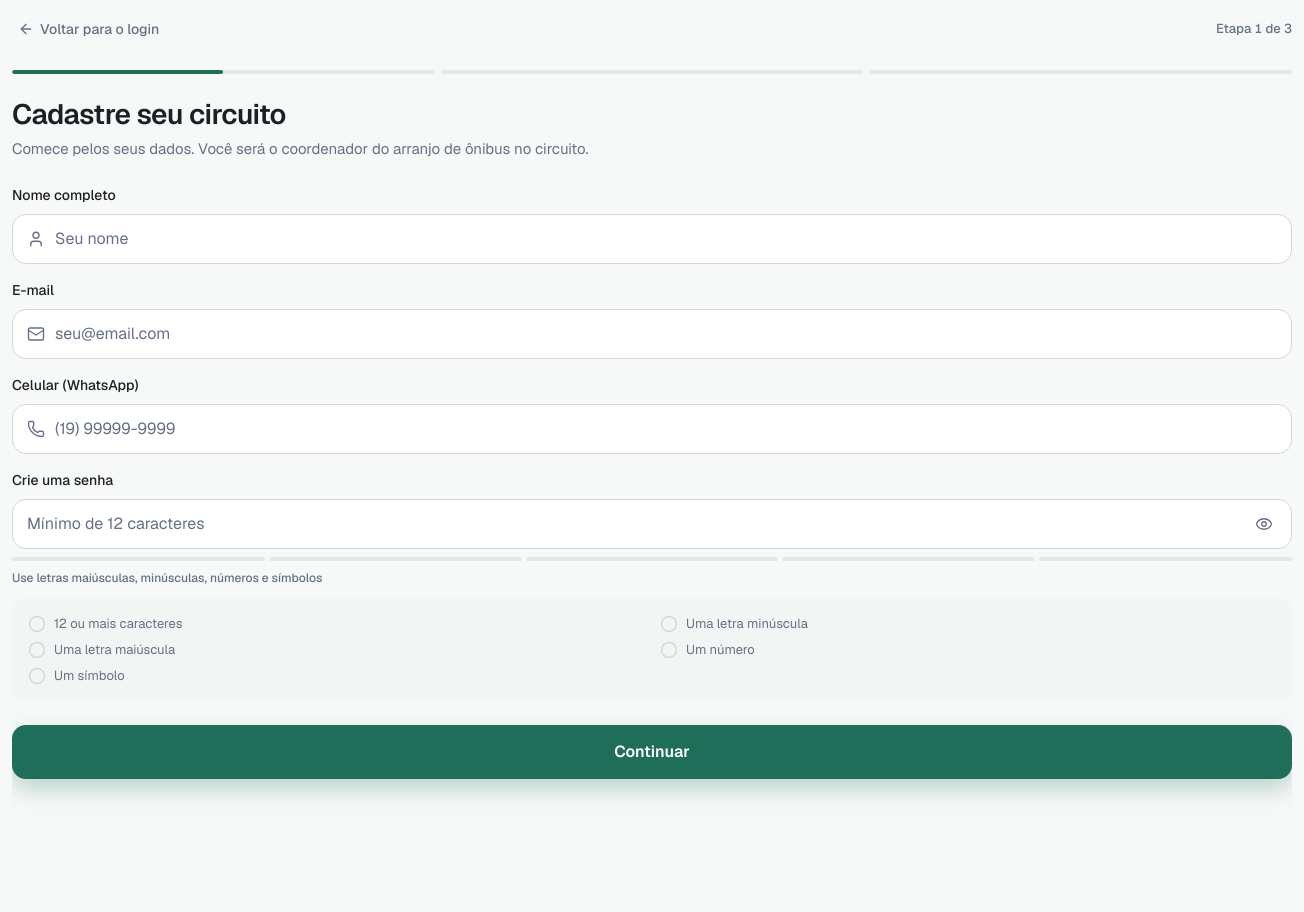
Test: SignupFlow › validação por etapa › deve validar o e-mail durante a digitação e limpar o erro ao corrigir
The width and height of the screenshot is (1304, 912).
In the field labelled "E-mail": x=669, y=334 [55,310,1283,358], type "joao@"
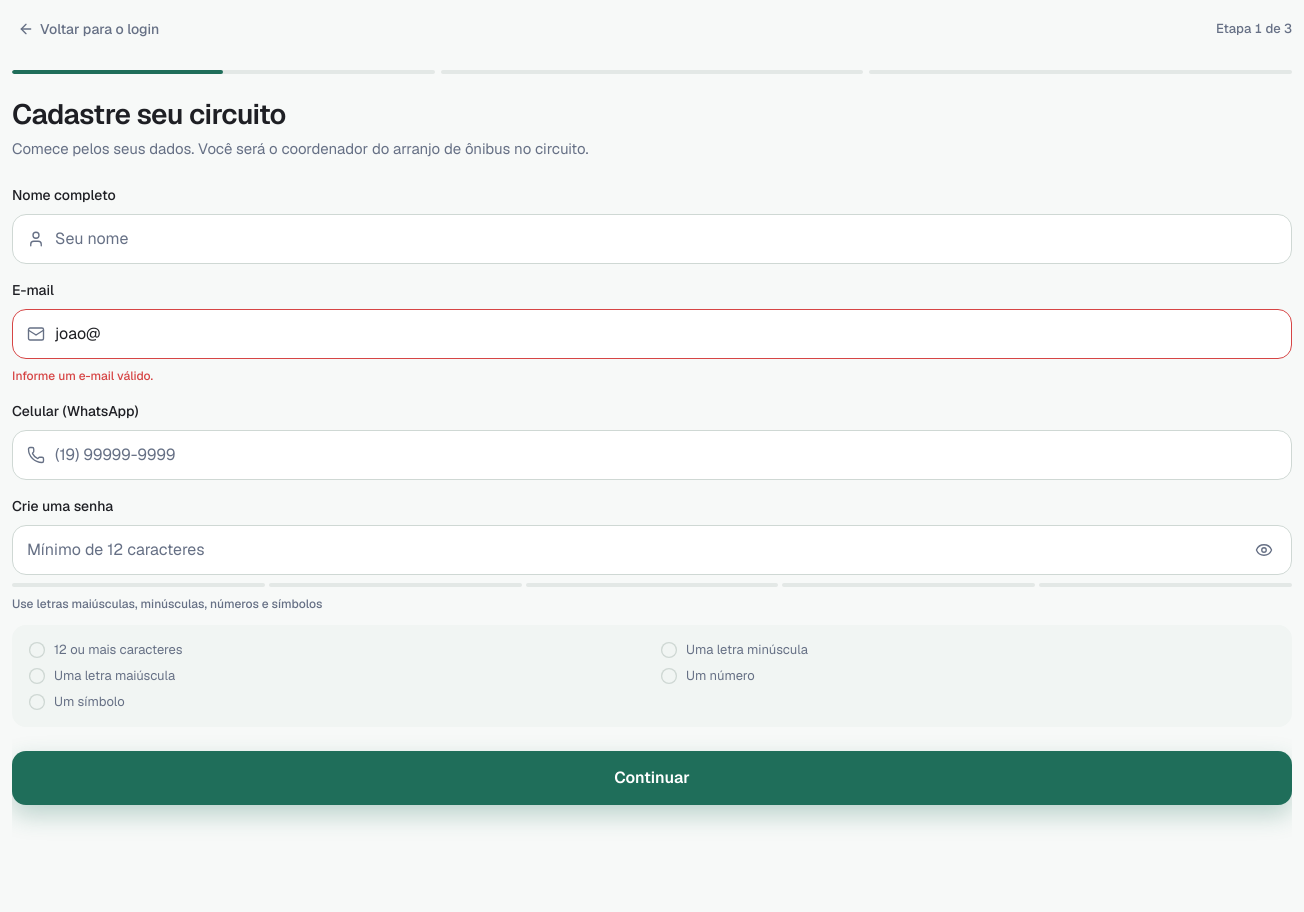
Result: the text "Informe um e-mail válido." is shown at [12,368,153,384]
Replace the text in the field labelled "E-mail" with "joao@example.com": x=669, y=334 [55,310,1283,358]
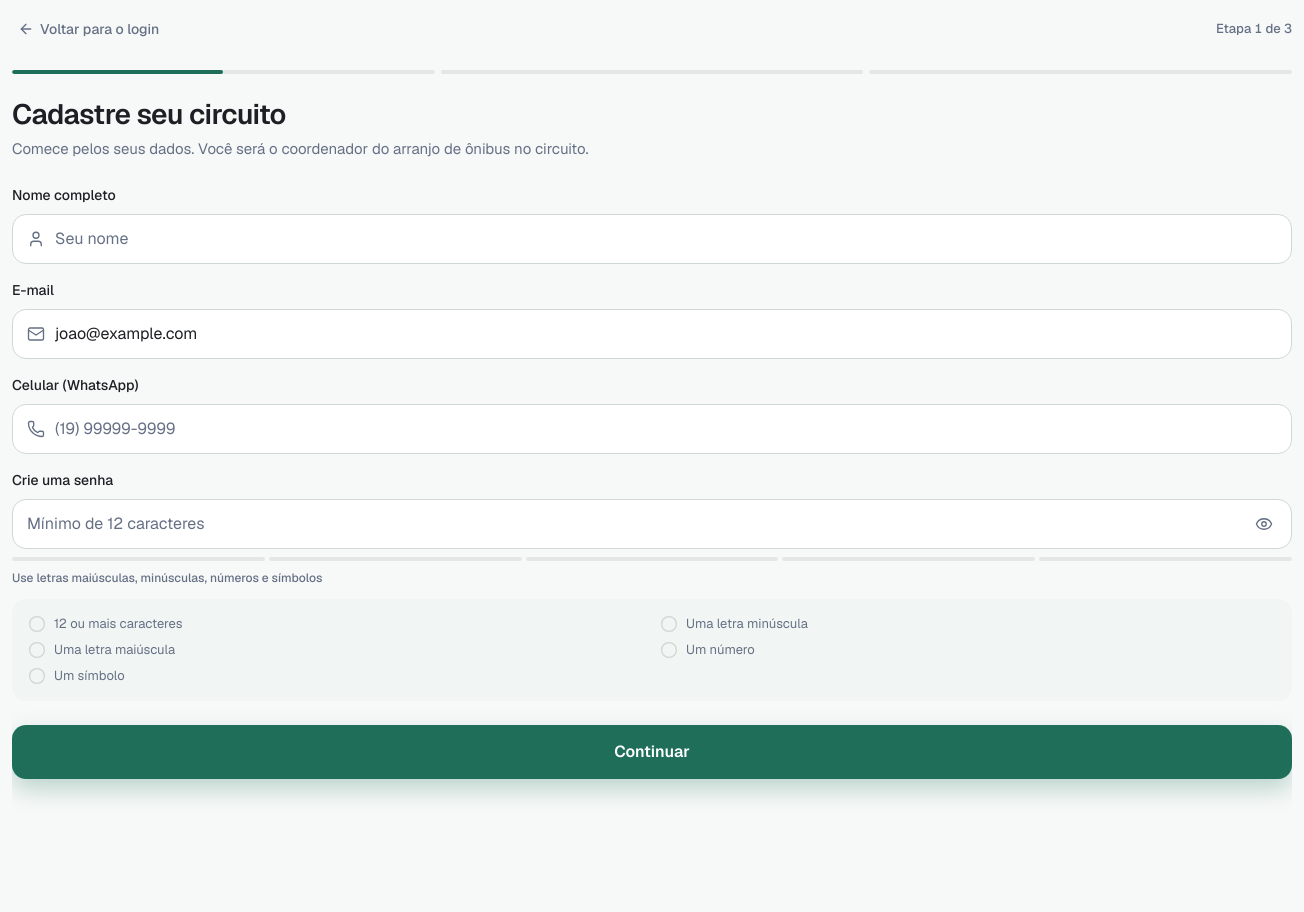
Expected: the text "Etapa 1 de 3" is shown, [1216,19,1292,39]
Result: the text "Informe um e-mail válido." is gone
